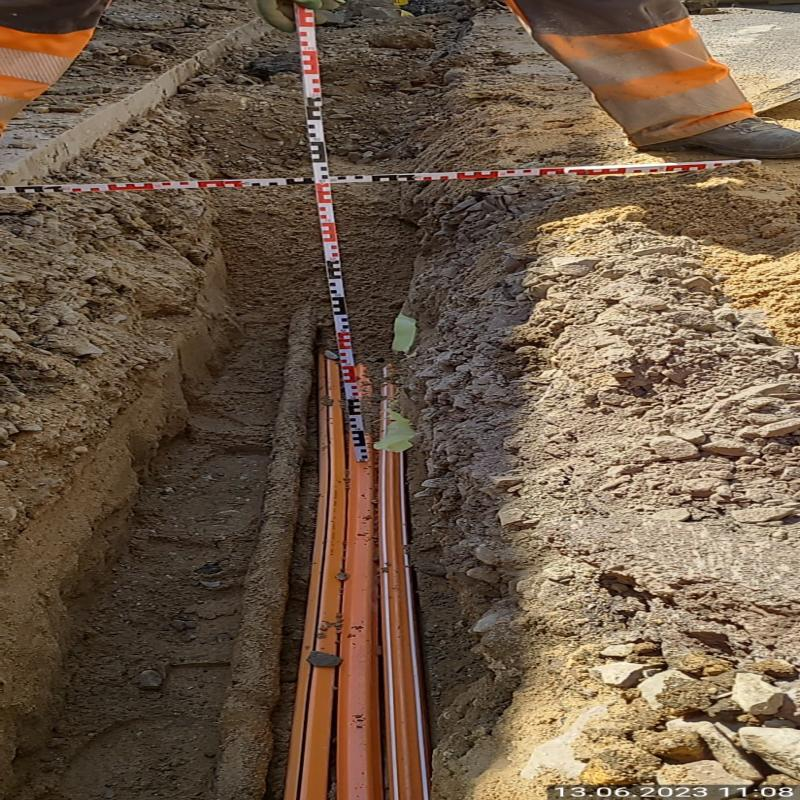Orang-Speednetrohrchen: (286, 352, 428, 800)
